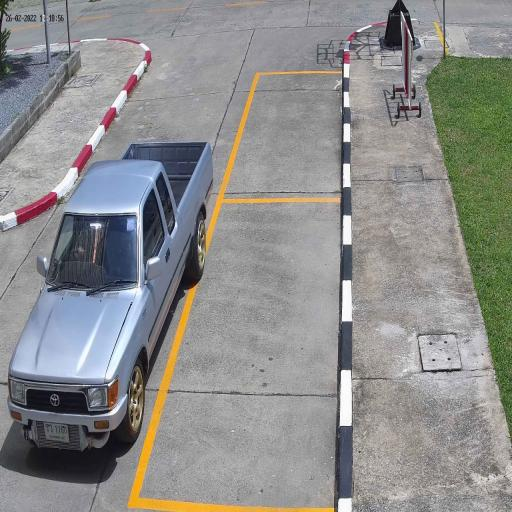car: (8, 140, 214, 453)
